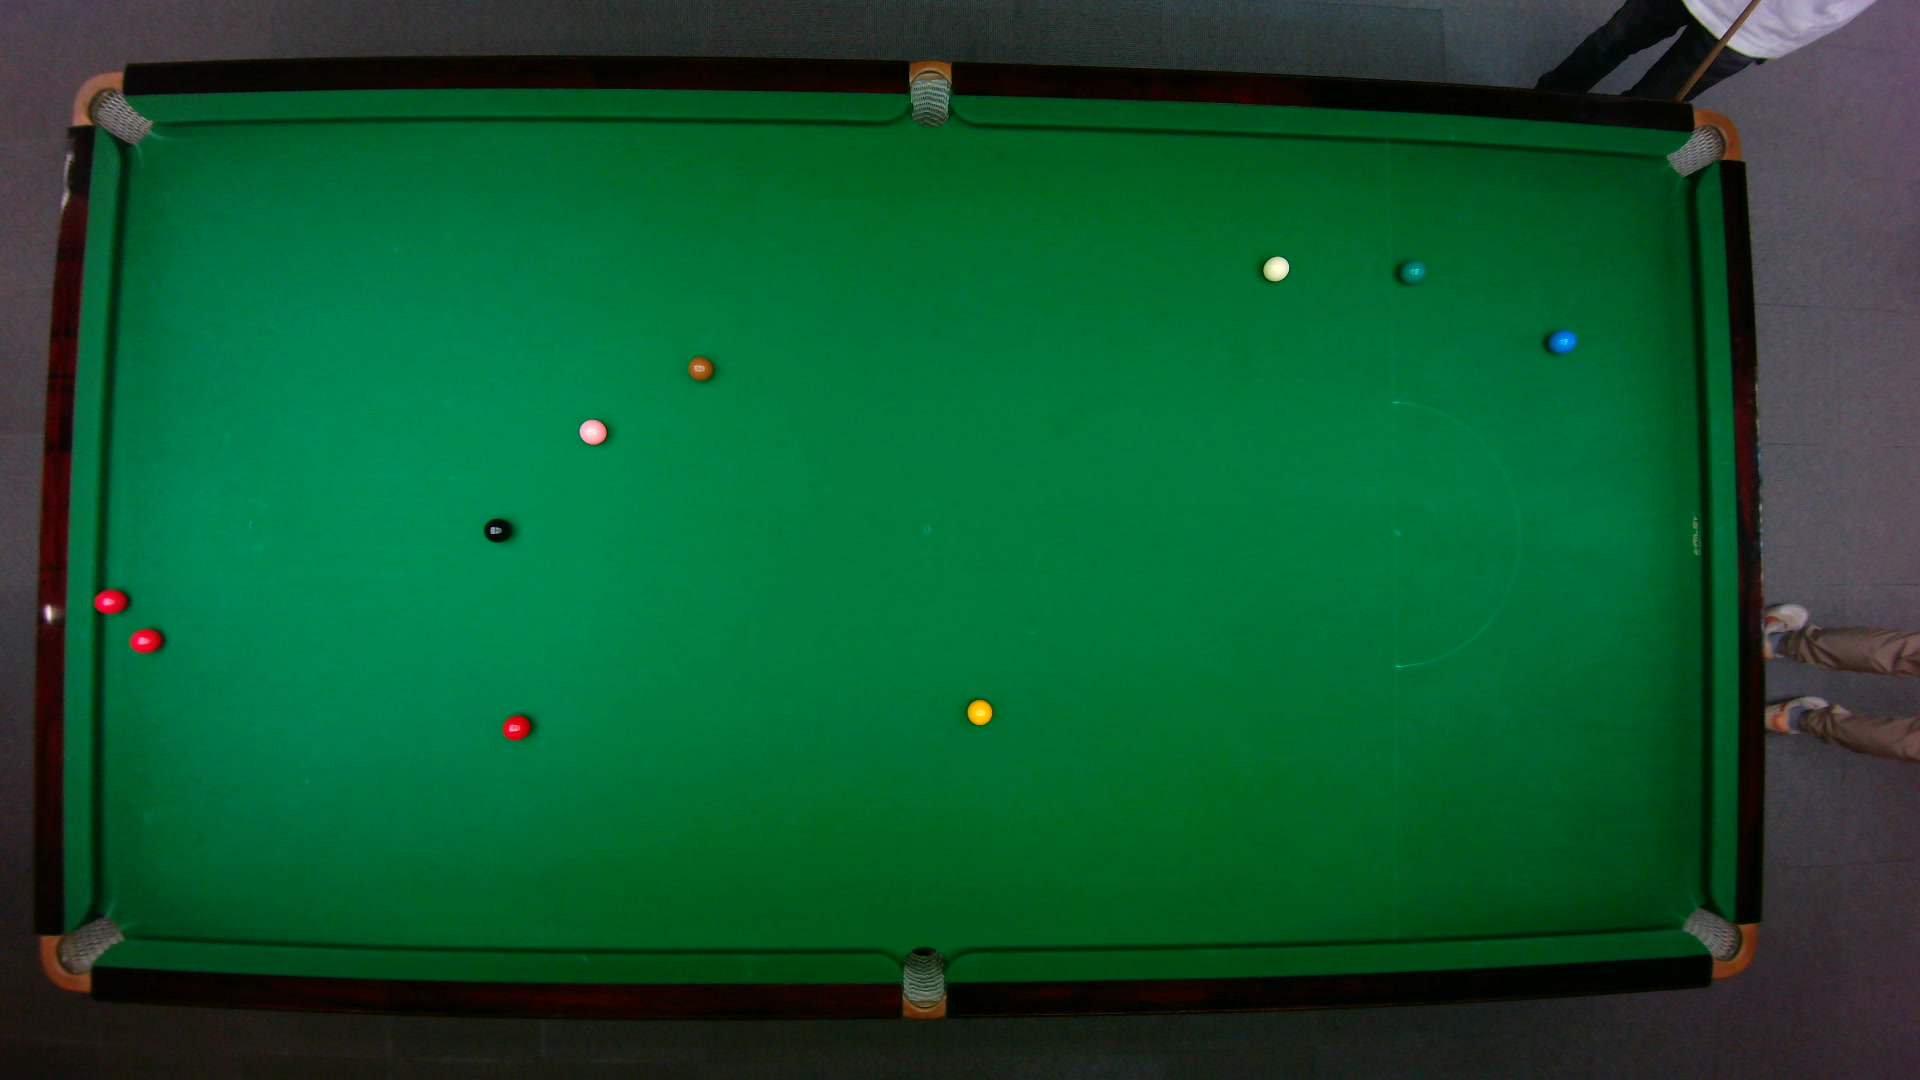bag: (37, 913, 125, 993), (69, 69, 153, 145), (1677, 905, 1756, 978), (1663, 107, 1741, 178), (901, 944, 944, 1021), (909, 57, 949, 128)
black: (483, 516, 512, 542)
blue: (1545, 328, 1577, 353)
brown: (687, 355, 713, 382)
green: (1396, 258, 1425, 284)
pink: (578, 417, 607, 444)
red: (91, 587, 128, 615), (127, 626, 164, 654), (500, 712, 531, 741)
white: (1261, 253, 1290, 282)
yellow: (964, 698, 993, 727)
zone: (1391, 400, 1520, 669)
